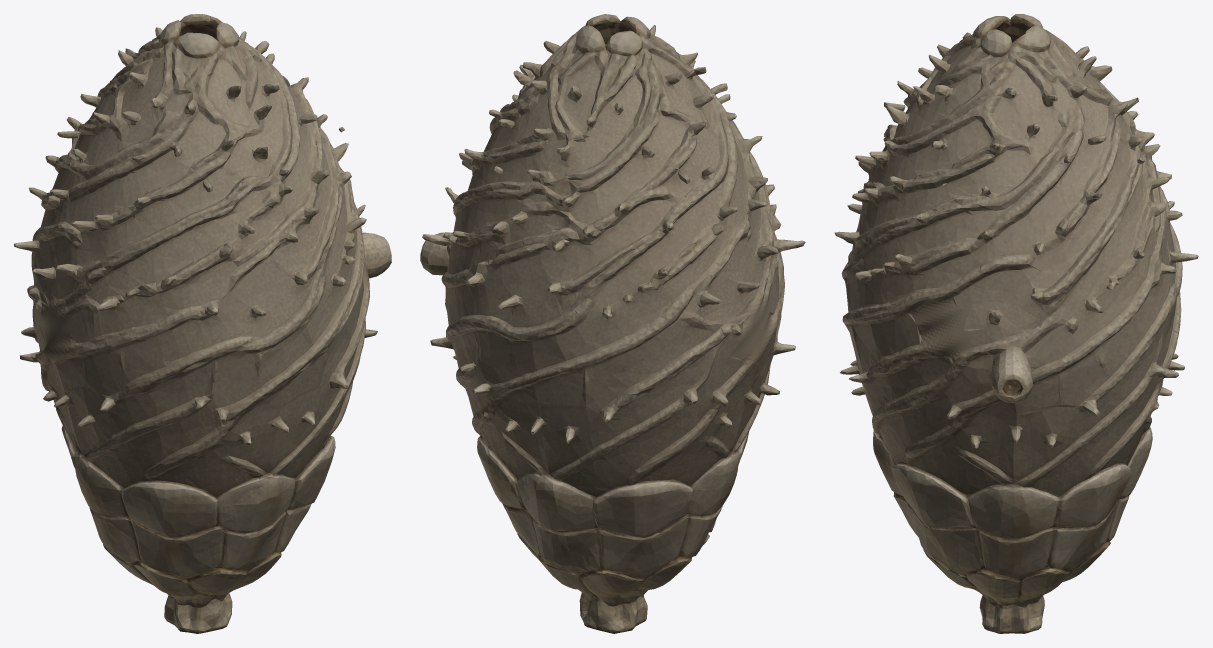
The picture shows the model from 3 angles, left to right: view 1: azimuth 30°, elevation 25°; view 2: azimuth 150°, elevation 25°; view 3: azimuth 270°, elevation 25°; orthographic projection.
Parts seen in each view (by area): view 1: world; view 2: world; view 3: world.
Part boxes in pixels (x1,y1,x2,y2): world: (14,14,391,633); world: (420,14,805,633); world: (834,14,1198,633).
Size of the model in its own units: 0.6044 by 1 by 0.5506.
5 materials, 5 textured.
